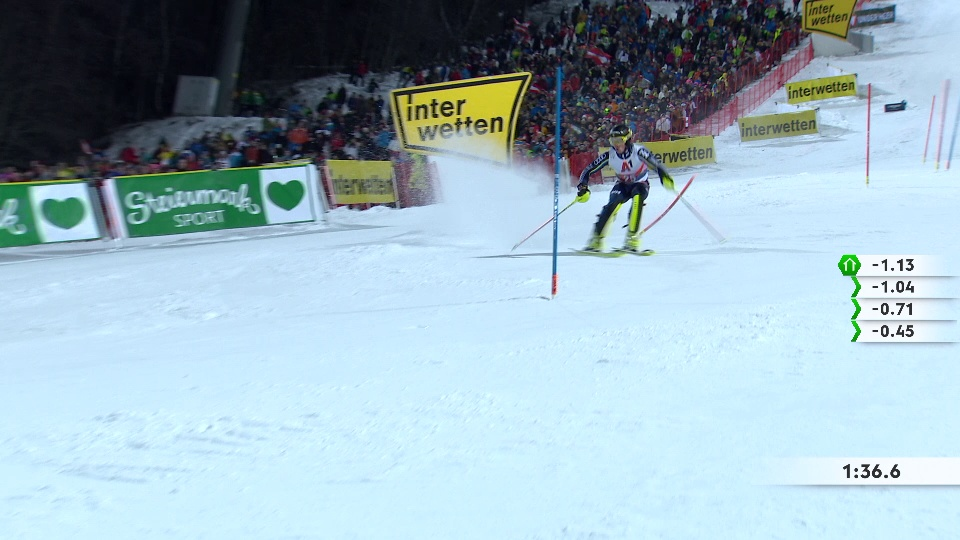a1: (619, 158, 634, 171)
interwetten: (395, 88, 520, 155), (328, 166, 396, 205), (801, 1, 859, 36), (744, 115, 819, 142), (648, 142, 717, 169), (789, 79, 858, 104)
steiermark: (121, 171, 317, 232), (1, 184, 104, 247)
